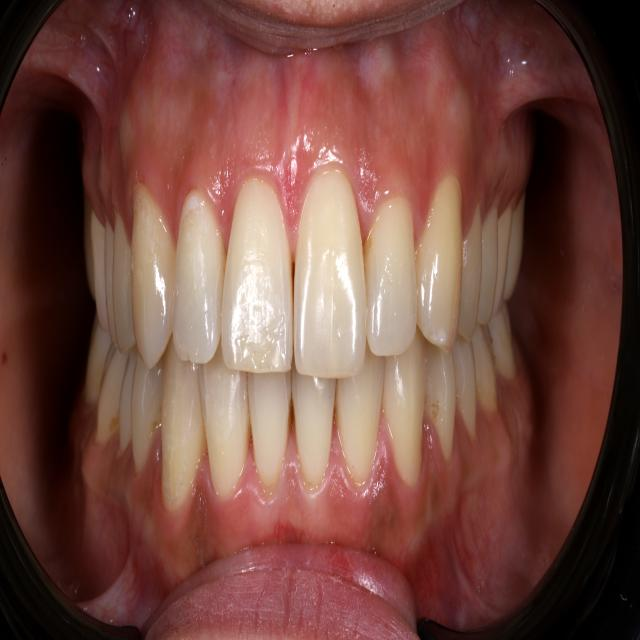tooth: (231, 191, 290, 366), (305, 192, 360, 372), (180, 202, 217, 364), (388, 360, 428, 496), (371, 234, 418, 342), (427, 214, 465, 339), (205, 376, 242, 498), (165, 372, 198, 503), (298, 377, 334, 483), (138, 207, 162, 365), (342, 378, 376, 484), (428, 360, 462, 466), (256, 378, 280, 480), (138, 387, 158, 442)
